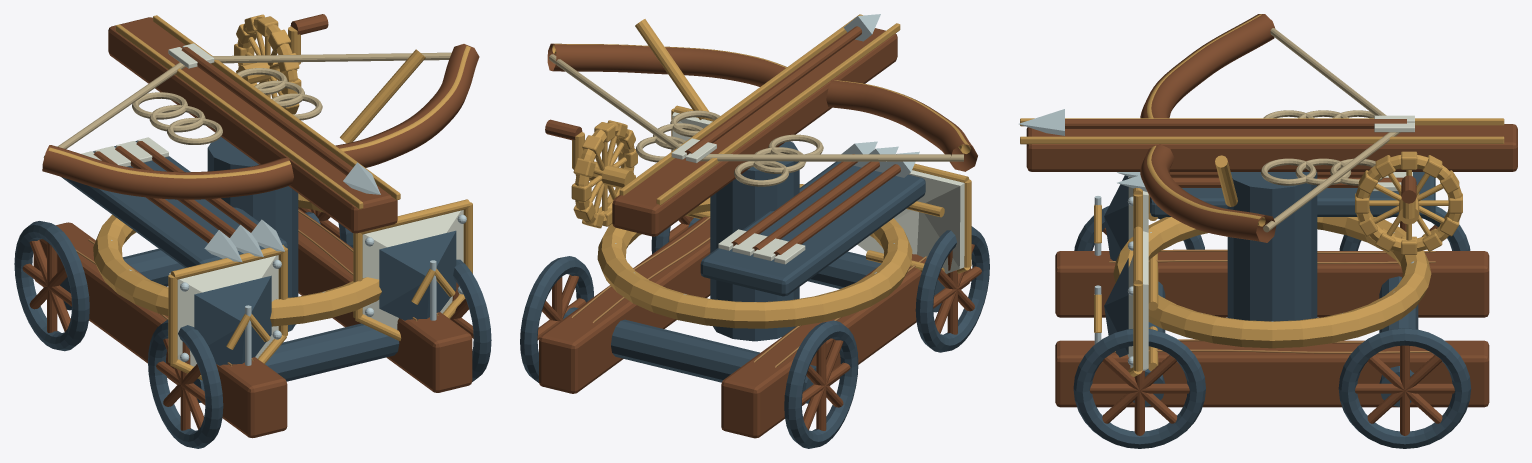
Rendered from ballista-2.glb.
3 views of the same model, side by side, from view 1: azimuth 30°, elevation 25°; view 2: azimuth 150°, elevation 25°; view 3: azimuth 270°, elevation 25° (orthographic).
Parts seen in each view (by area): view 1: Base - Blue tempered steel.001, Base - Oiled walnut.001, Carriage - Oiled walnut.001, Base - Brushed electrum.001, Carriage - Brushed electrum.001, Base - Royal ivory enamel.001, Turret - Blue tempered steel.001, Carriage - Hemp windings.001, Winch - Brushed electrum.001, Bowstring - Hemp windings.001, Turret - Oiled walnut.001, LoadedBolt - Oiled walnut.001 (+8 smaller); view 2: Base - Blue tempered steel.001, Base - Oiled walnut.001, Carriage - Oiled walnut.001, Base - Brushed electrum.001, Turret - Blue tempered steel.001, Winch - Brushed electrum.001, Carriage - Brushed electrum.001, Base - Royal ivory enamel.001, Turret - Oiled walnut.001, Bowstring - Hemp windings.001, Carriage - Hemp windings.001, LoadedBolt - Oiled walnut.001 (+7 smaller); view 3: Base - Oiled walnut.001, Base - Blue tempered steel.001, Carriage - Oiled walnut.001, Base - Brushed electrum.001, Winch - Brushed electrum.001, Carriage - Brushed electrum.001, LoadedBolt - Oiled walnut.001, Turret - Blue tempered steel.001, Carriage - Hemp windings.001, Bowstring - Hemp windings.001, Base - Royal ivory enamel.001, Base - Cut heartwood.001 (+5 smaller).
Part boxes in pixels (x1,y1,x2,y2): Base - Blue tempered steel.001: [14, 137, 491, 448]; Base - Oiled walnut.001: [22, 207, 473, 438]; Carriage - Oiled walnut.001: [42, 17, 479, 233]; Base - Brushed electrum.001: [93, 193, 472, 380]; Carriage - Brushed electrum.001: [48, 15, 470, 209]; Base - Royal ivory enamel.001: [169, 210, 463, 366]; Turret - Blue tempered steel.001: [61, 141, 287, 267]; Carriage - Hemp windings.001: [132, 68, 322, 144]; Winch - Brushed electrum.001: [234, 14, 301, 114]; Bowstring - Hemp windings.001: [43, 52, 451, 157]; Turret - Oiled walnut.001: [93, 141, 256, 243]; LoadedBolt - Oiled walnut.001: [181, 47, 352, 175]; Base - Blue tempered steel.001: [520, 141, 989, 448]; Base - Oiled walnut.001: [537, 216, 981, 438]; Carriage - Oiled walnut.001: [547, 28, 977, 236]; Base - Brushed electrum.001: [597, 105, 971, 328]; Turret - Blue tempered steel.001: [700, 161, 925, 296]; Winch - Brushed electrum.001: [571, 120, 637, 228]; Carriage - Brushed electrum.001: [552, 14, 970, 205]; Base - Royal ivory enamel.001: [672, 112, 964, 273]; Turret - Oiled walnut.001: [731, 154, 900, 256]; Bowstring - Hemp windings.001: [549, 54, 963, 161]; Carriage - Hemp windings.001: [636, 110, 823, 186]; LoadedBolt - Oiled walnut.001: [685, 26, 861, 154]; Base - Oiled walnut.001: [1055, 221, 1489, 435]; Base - Blue tempered steel.001: [1073, 172, 1471, 448]; Carriage - Oiled walnut.001: [1026, 14, 1517, 242]; Base - Brushed electrum.001: [1094, 188, 1431, 376]; Winch - Brushed electrum.001: [1355, 151, 1462, 254]; Carriage - Brushed electrum.001: [1020, 14, 1504, 226]; LoadedBolt - Oiled walnut.001: [1065, 119, 1406, 128]; Turret - Blue tempered steel.001: [1150, 172, 1435, 216]; Carriage - Hemp windings.001: [1261, 110, 1382, 185]; Bowstring - Hemp windings.001: [1263, 28, 1400, 232]; Base - Royal ivory enamel.001: [1127, 177, 1148, 370]; Base - Cut heartwood.001: [1109, 249, 1435, 353].
Size of the model in its own units: 2.46 by 1.6 by 2.45.
